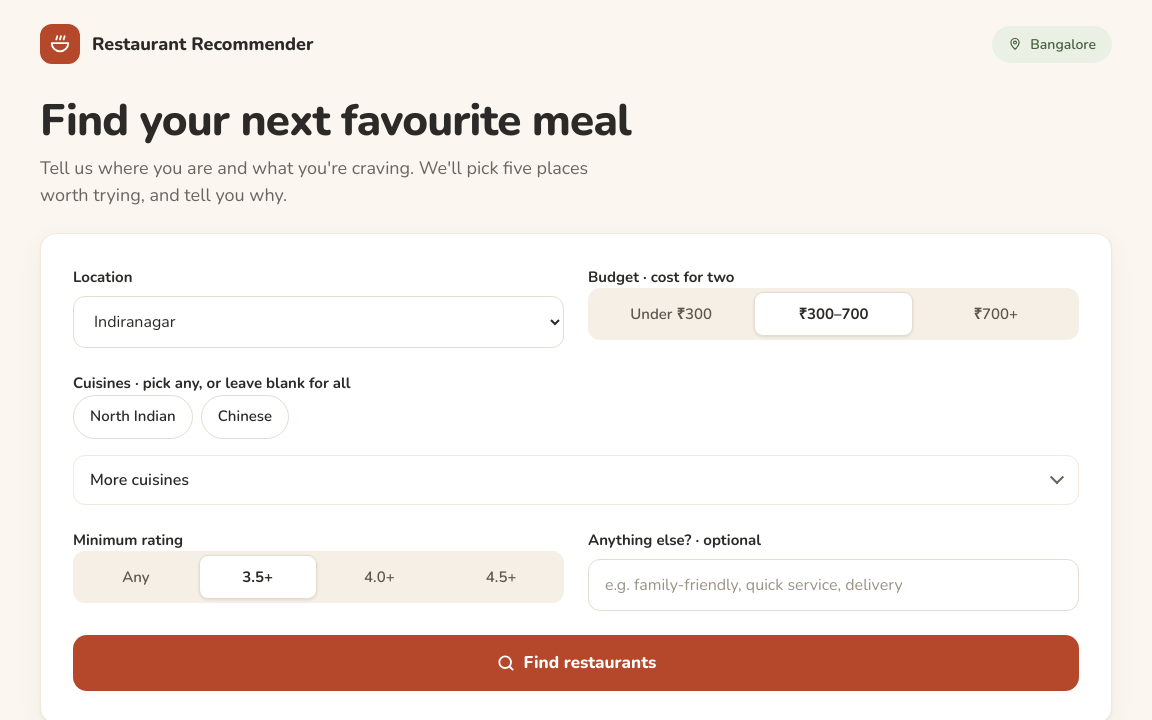
Recommender › shows notes as info banners
The width and height of the screenshot is (1152, 720).
Click the button "Find restaurants". click: (576, 663)
box: [73,635,1079,691]
(page scrolled)
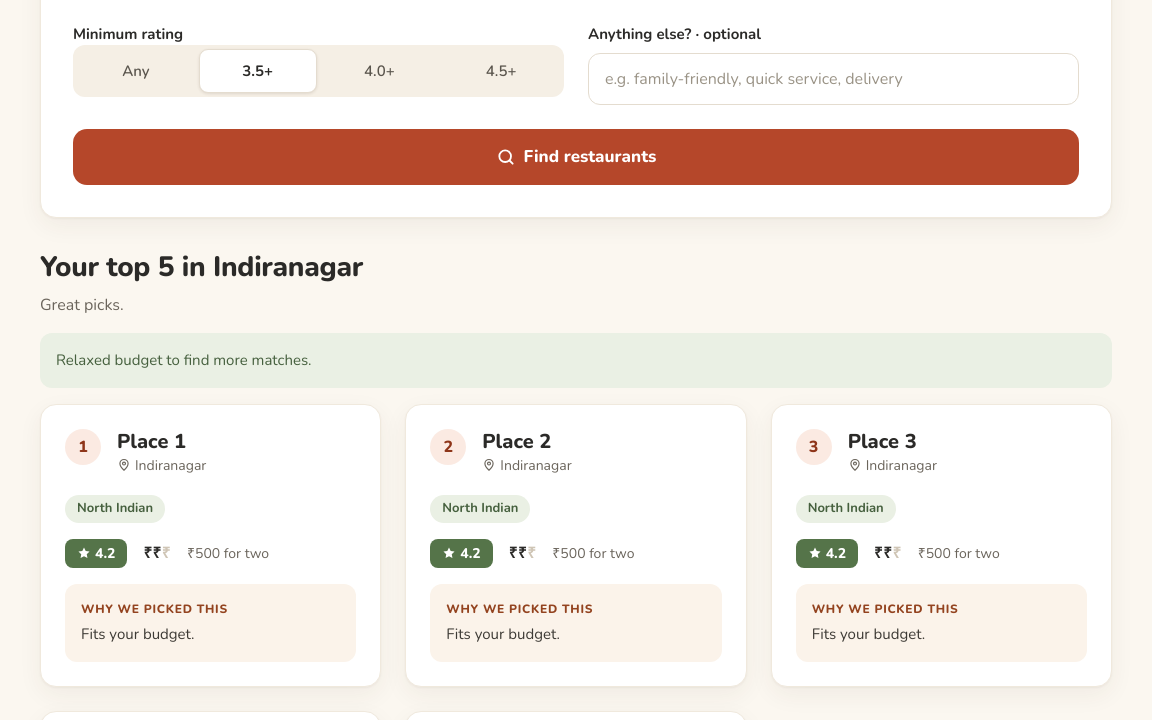
Expected: the text "Relaxed budget to find more matches." is shown, [40,333,1112,388]
